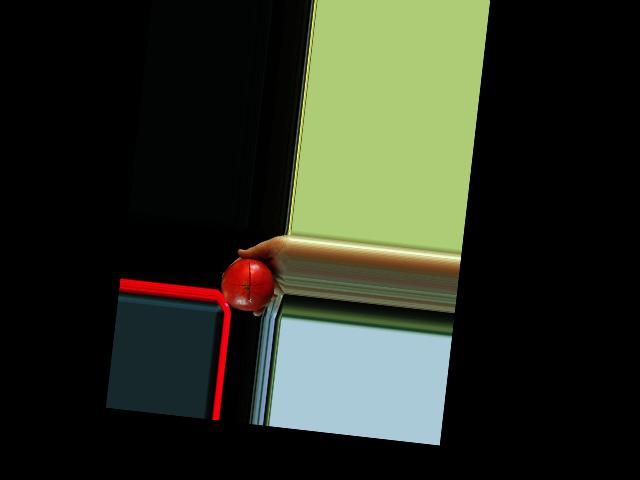tomato: (218, 255, 277, 314)
